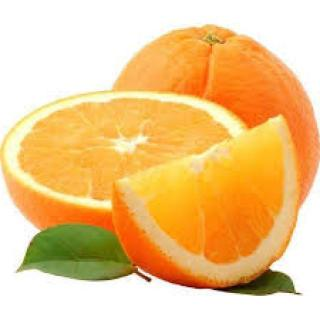orange: (0, 73, 256, 253), (102, 111, 310, 313), (97, 24, 320, 206)
